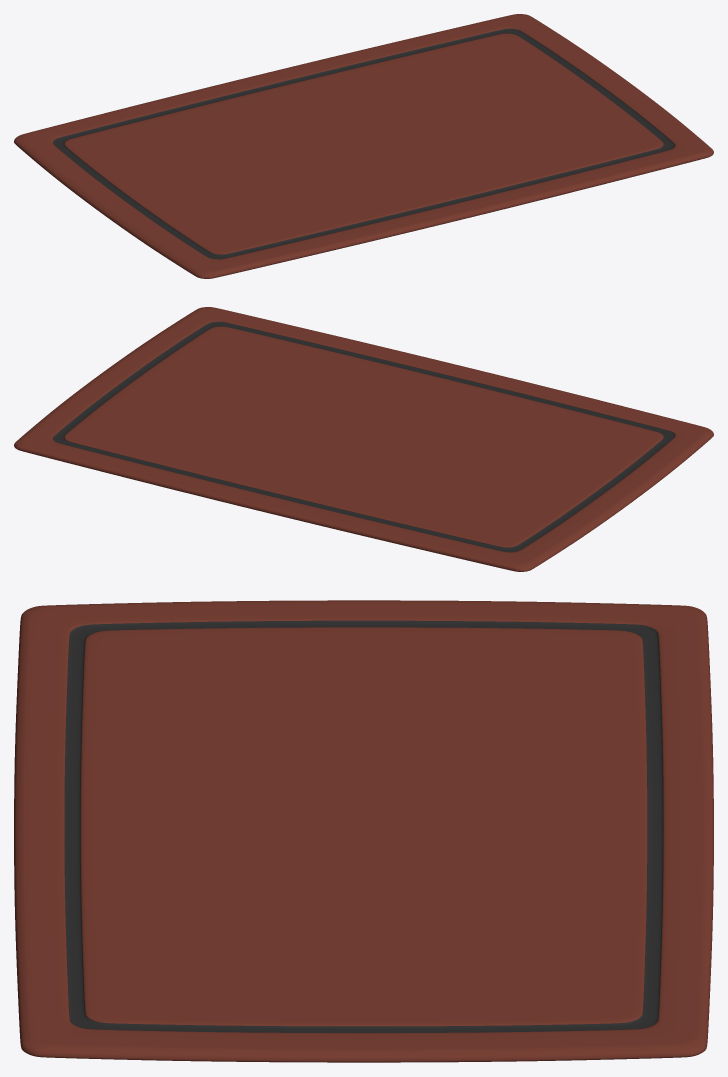
The model's file is SM_Carpet_01.fbx.
3 views of the same model, one above another, from view 1: azimuth 30°, elevation 25°; view 2: azimuth 150°, elevation 25°; view 3: azimuth 270°, elevation 25° (orthographic). The views are drawn at different scales.
Parts seen in each view (by area): view 1: Plane.009; view 2: Plane.009; view 3: Plane.009.
Boxes of the visible parts, x1=… form: Plane.009: x1=14, y1=14, x2=713, y2=278; Plane.009: x1=14, y1=307, x2=713, y2=571; Plane.009: x1=14, y1=600, x2=713, y2=1062.
Size of the model in its own units: 323 by 2.78 by 208.
